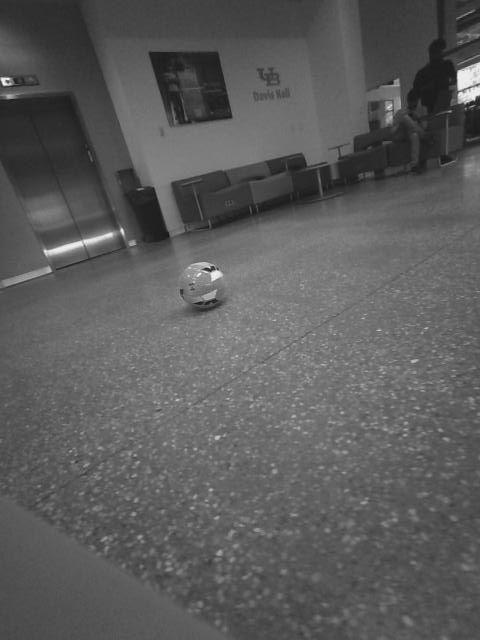ball: (173, 258, 234, 314)
